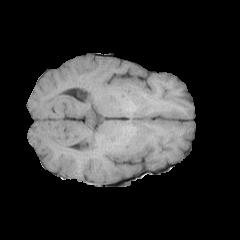glioma: (73, 113, 148, 156)
